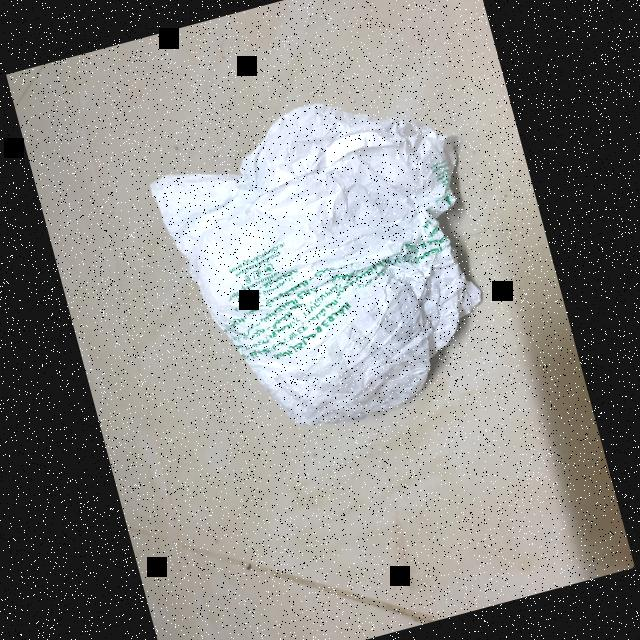plastic_bag: (130, 58, 530, 464)
